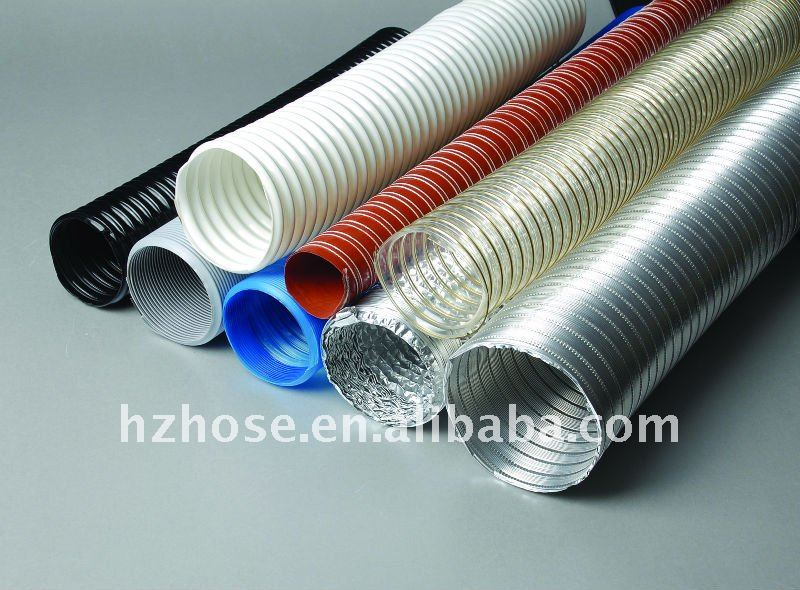Nonrec_Plastic: (10, 12, 769, 513)
